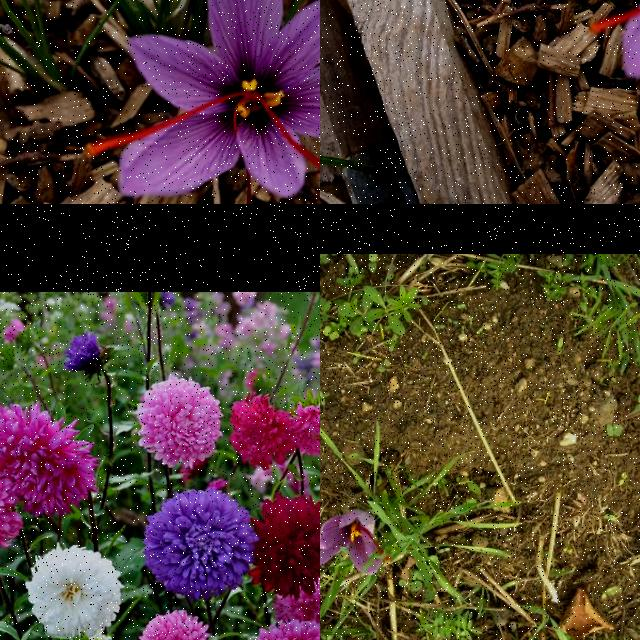flower: (83, 0, 320, 204), (320, 510, 391, 575)
